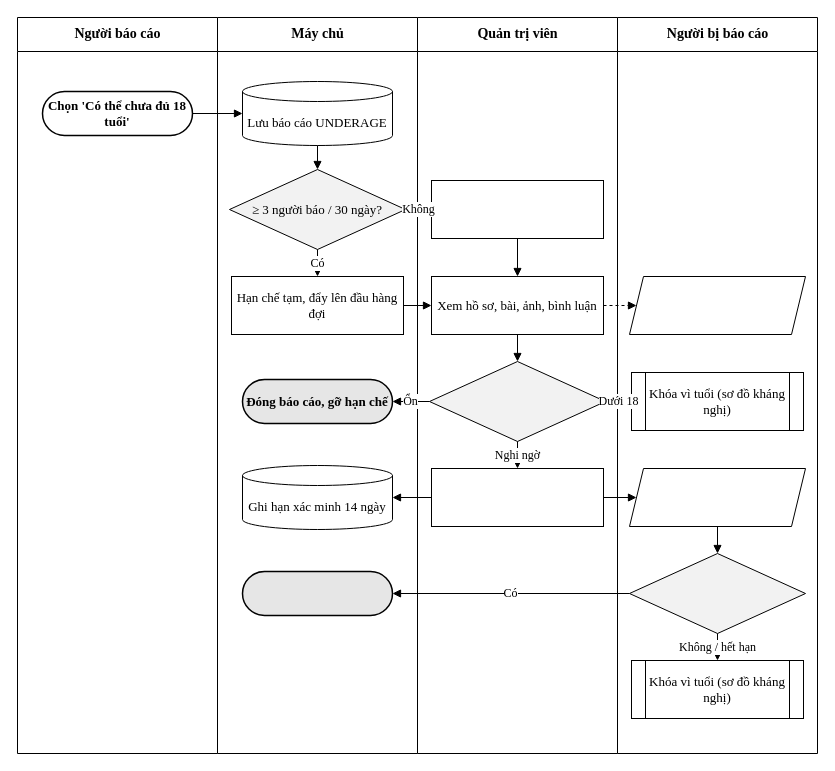
Some shapes in this 835 by 771 pixel diagram are drawn without their labels. The shapes that lost their labels are listed below. From the top down, each one's centre as x and y in pixels, then its label:
At point 517,209: "Vào hàng đợi, ưu tiên thường".
At point 717,305: "Báo 'Một số tính năng tạm giới hạn'".
At point 517,401: "Kết luận?".
At point 517,497: "Yêu cầu xác minh tuổi".
At point 717,497: "Màn 'Cần xác minh tuổi trong 14 ngày'".
At point 317,593: "Gỡ hạn chế, ghi 'đã xác minh'".
At point 717,593: "Xác minh đạt trước hạn?".
